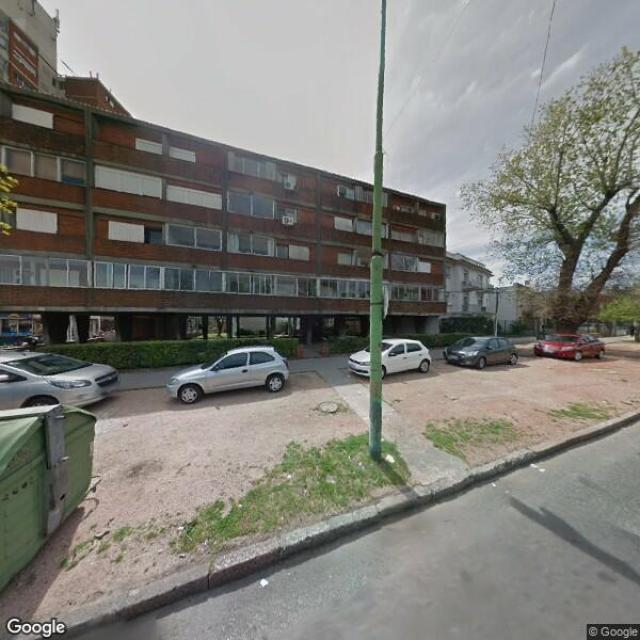garbage container: (1, 394, 113, 602)
